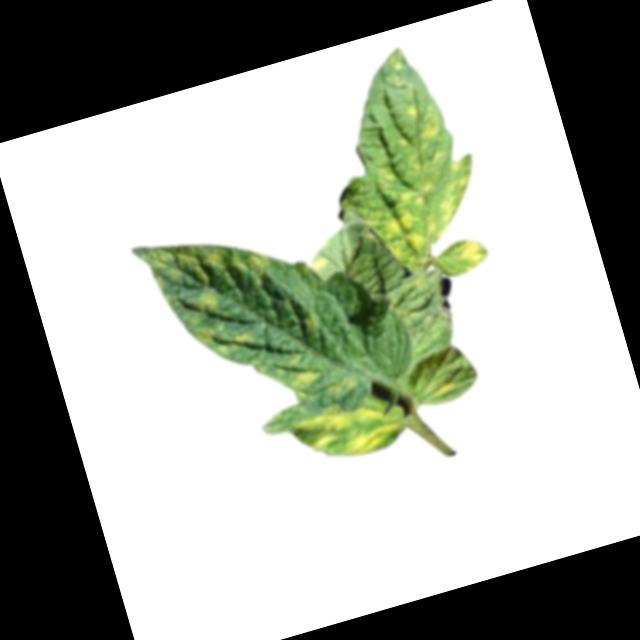Leaf_Mold: (325, 39, 504, 304), (130, 210, 283, 332), (294, 380, 418, 469), (191, 313, 262, 367), (277, 347, 328, 406)
